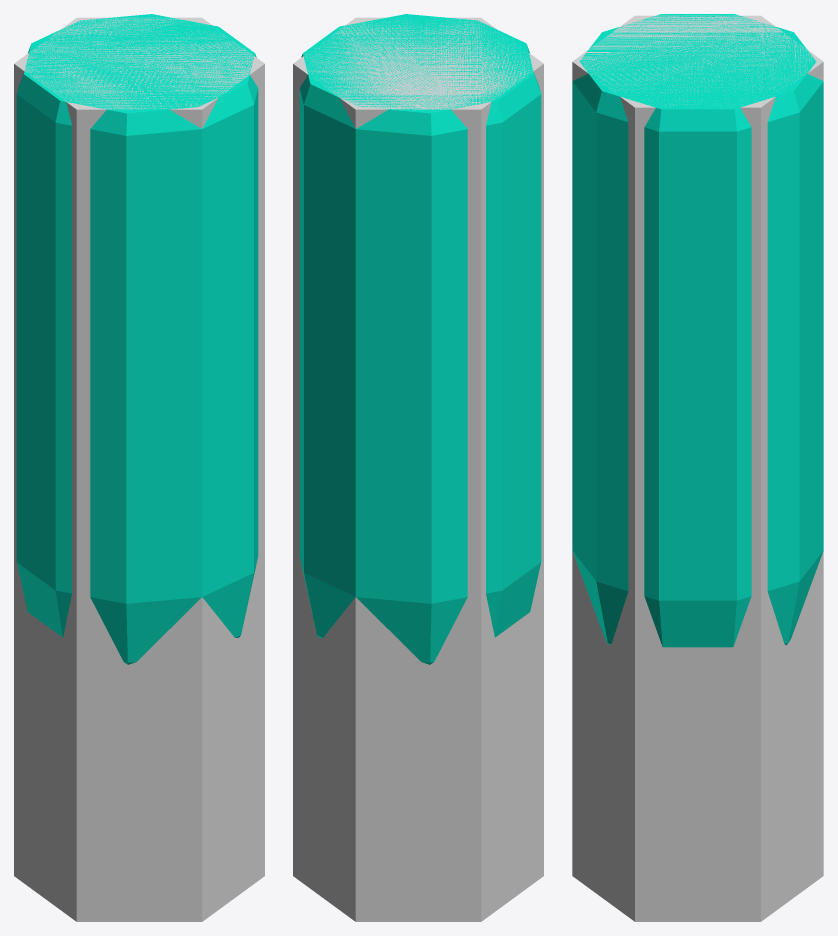
File: prop_chai_thuy_tinh.fbx
The picture shows the model from 3 angles, left to right: view 1: azimuth 30°, elevation 25°; view 2: azimuth 150°, elevation 25°; view 3: azimuth 270°, elevation 25°; orthographic projection.
Parts seen in each view (by area): view 1: chai_thuy_tinh, chai_thuy_tinh_col, chai_thuy_tinh_broken_01, chai_thuy_tinh_broken_02, chai_thuy_tinh_broken_03, chai_thuy_tinh_broken_04; view 2: chai_thuy_tinh, chai_thuy_tinh_col, chai_thuy_tinh_broken_01, chai_thuy_tinh_broken_03, chai_thuy_tinh_broken_02, chai_thuy_tinh_broken_04; view 3: chai_thuy_tinh, chai_thuy_tinh_col, chai_thuy_tinh_broken_02, chai_thuy_tinh_broken_01, chai_thuy_tinh_broken_03, chai_thuy_tinh_broken_04.
Part boxes in pixels (x1,y1,x2,y2): chai_thuy_tinh: (16, 14, 258, 664); chai_thuy_tinh_col: (14, 17, 264, 921); chai_thuy_tinh_broken_01: (16, 92, 258, 307); chai_thuy_tinh_broken_02: (16, 229, 258, 481); chai_thuy_tinh_broken_03: (17, 396, 258, 603); chai_thuy_tinh_broken_04: (20, 509, 258, 661); chai_thuy_tinh: (299, 14, 541, 664); chai_thuy_tinh_col: (293, 17, 543, 921); chai_thuy_tinh_broken_01: (299, 92, 541, 280); chai_thuy_tinh_broken_03: (299, 375, 541, 603); chai_thuy_tinh_broken_02: (299, 208, 541, 462); chai_thuy_tinh_broken_04: (299, 513, 537, 662); chai_thuy_tinh: (572, 14, 823, 647); chai_thuy_tinh_col: (572, 15, 823, 921); chai_thuy_tinh_broken_02: (572, 226, 809, 431); chai_thuy_tinh_broken_01: (572, 82, 823, 263); chai_thuy_tinh_broken_03: (572, 398, 807, 549); chai_thuy_tinh_broken_04: (572, 534, 823, 600).
Bounding box in the file's own units: 0.0666 × 0.25 × 0.07.
